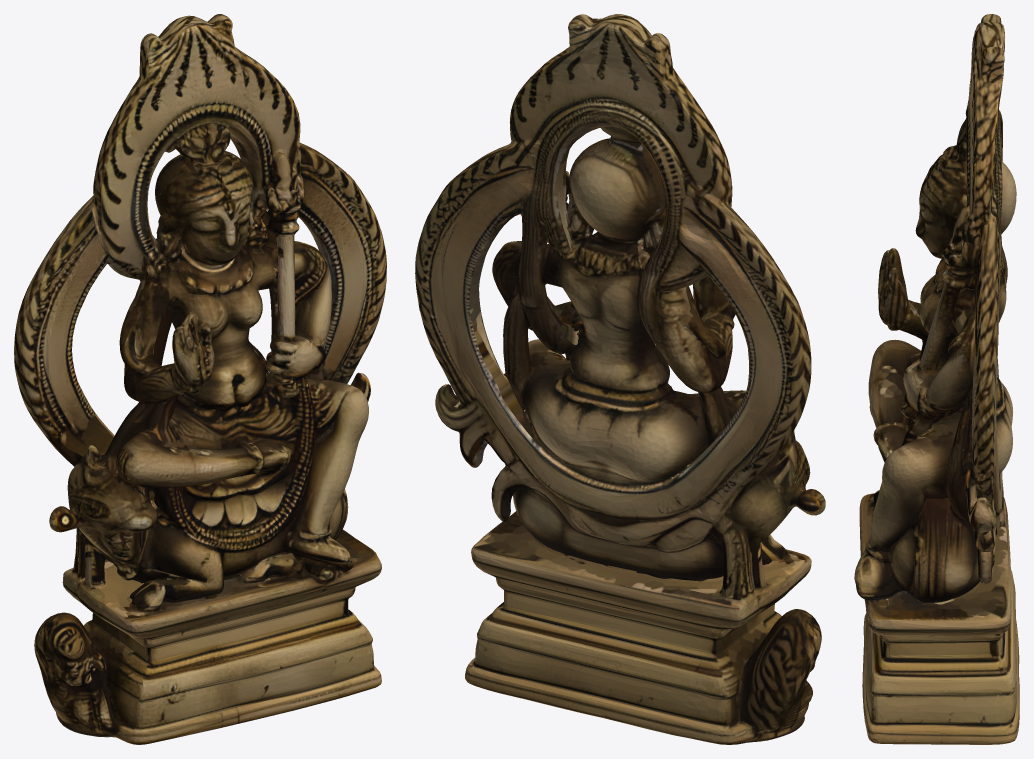
3 renders of one model, left to right at view 1: azimuth 30°, elevation 25°; view 2: azimuth 150°, elevation 25°; view 3: azimuth 270°, elevation 25°, orthographic. The views are drawn at different scales.
Parts seen in each view (by area): view 1: textured_mesh; view 2: textured_mesh; view 3: textured_mesh.
Boxes of the visible parts, x1,y1,x2,y2 form: textured_mesh: (14,14,386,744); textured_mesh: (415,14,825,744); textured_mesh: (854,14,1019,744).
Size of the model in its own units: 1.18 by 1.99 by 0.4548.
1 material, 1 textured.
